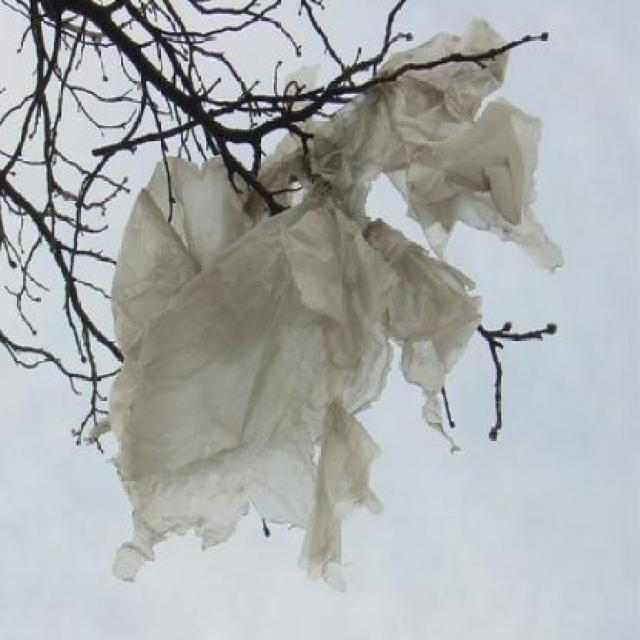plastic bag: (106, 20, 568, 589)
